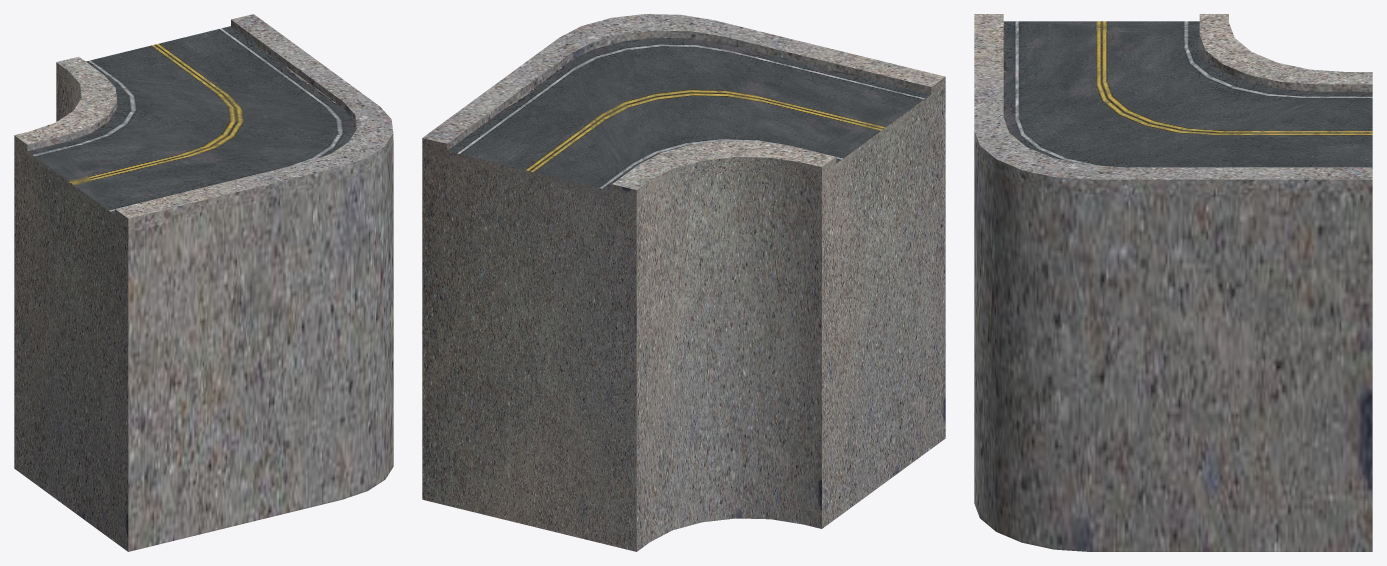
File: leftTurn-small.fbx
3 views of the same model, side by side, from view 1: azimuth 30°, elevation 25°; view 2: azimuth 150°, elevation 25°; view 3: azimuth 270°, elevation 25° (orthographic). The views are drawn at different scales.
Visible parts, largest first — view 1: Plane.020; view 2: Plane.020; view 3: Plane.020.
Boxes of the visible parts, x1=… form: Plane.020: x1=14, y1=14, x2=393, y2=551; Plane.020: x1=422, y1=14, x2=945, y2=551; Plane.020: x1=974, y1=14, x2=1372, y2=551.
Bounding box in the file's own units: 2000 × 2096 × 2033.
